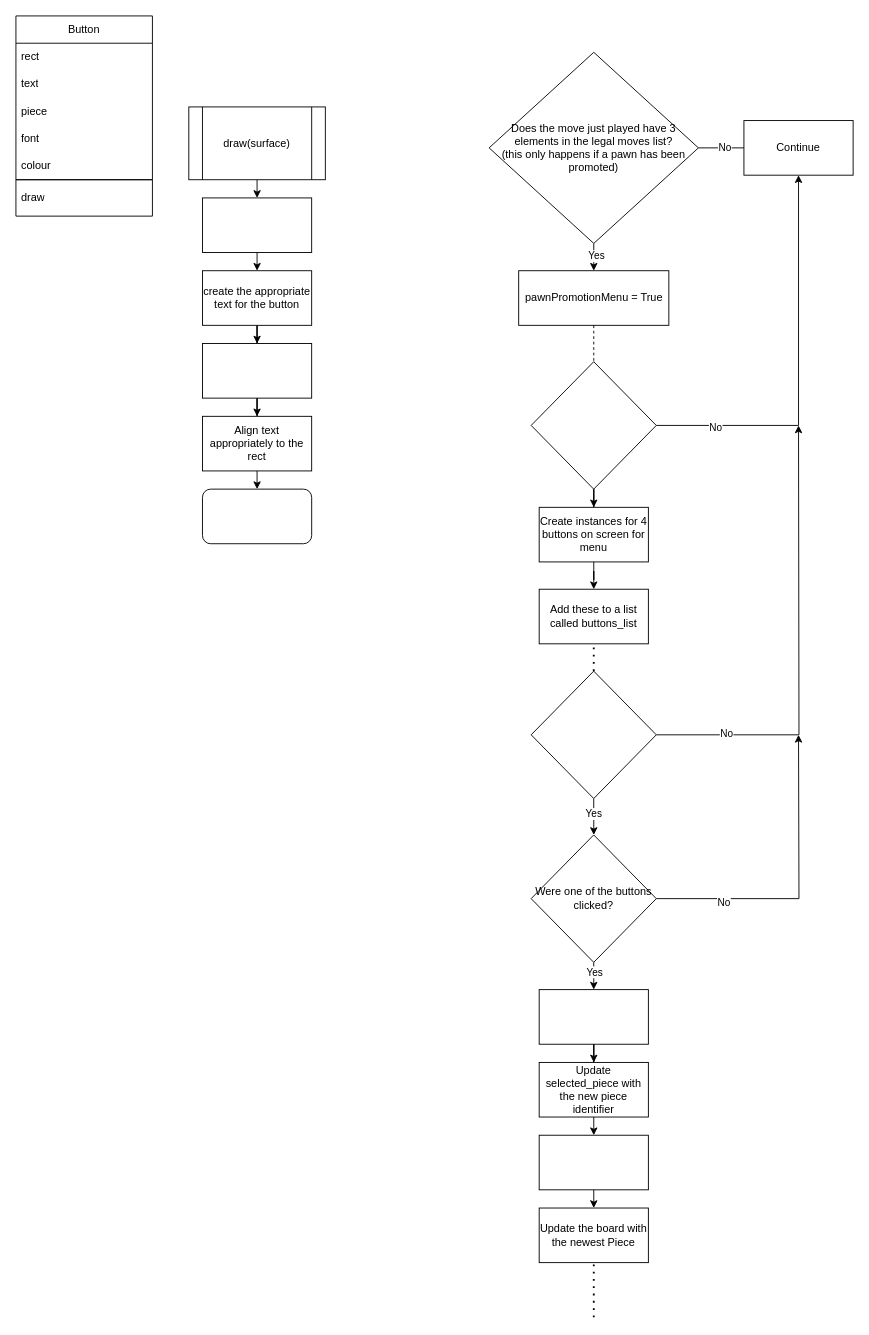
This 869x1335 diagram has some shape labels left out. The shapes that lost their labels are listed below. From the top down, each one's centre as x and y in pixels, then its label:
At (257,225): "create a pygame rect".
At (257,370): "render the rect in the correct place".
At (593,425): "Is pawnPromotionMenu True?".
At (257,516): "End".
At (593,734): "Is there a mousebutton down event and is pawnPromotionmenu true?".
At (593,1016): "Update the moves log with the promoted piece".
At (593,1162): "pawnPromotionMenu = False".
